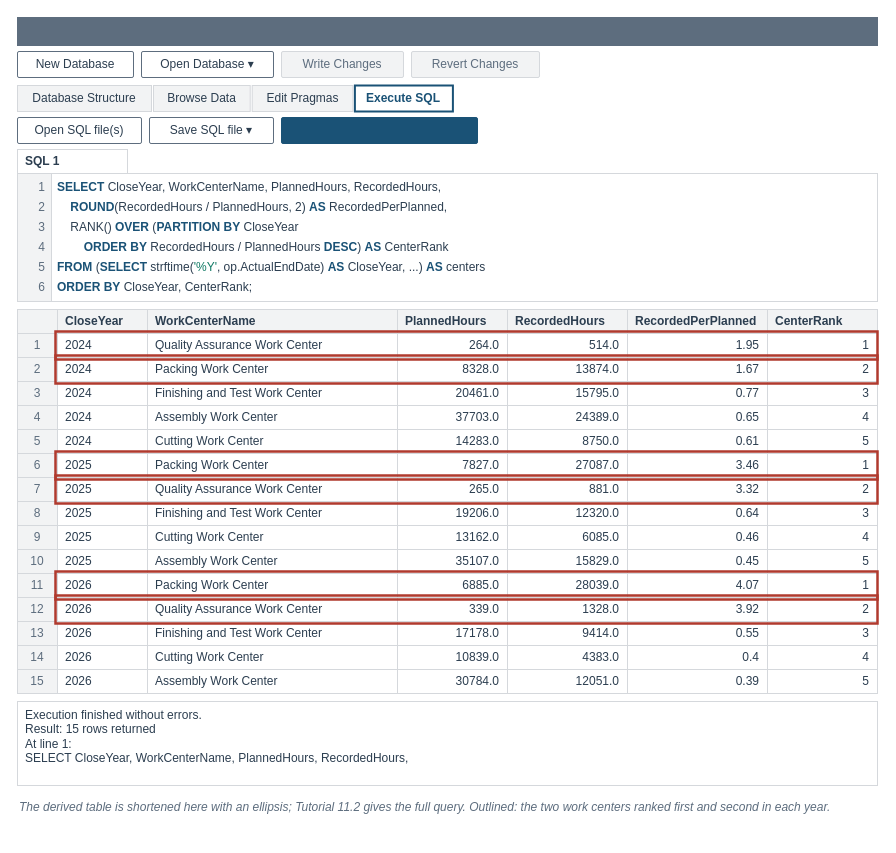
The diagram is 896 pixels wide and 853 high, and some of its shapes have lost their labels. The shapes that lost their labels are listed below. From the top down, each one's centre as x and y in pixels, then its label:
the point at 447,31: DB Browser for SQLite - C:\Users\you\Documents\CharlesRiver_Work.sqlite
the point at 379,130: ▶ Execute all/selected SQL
